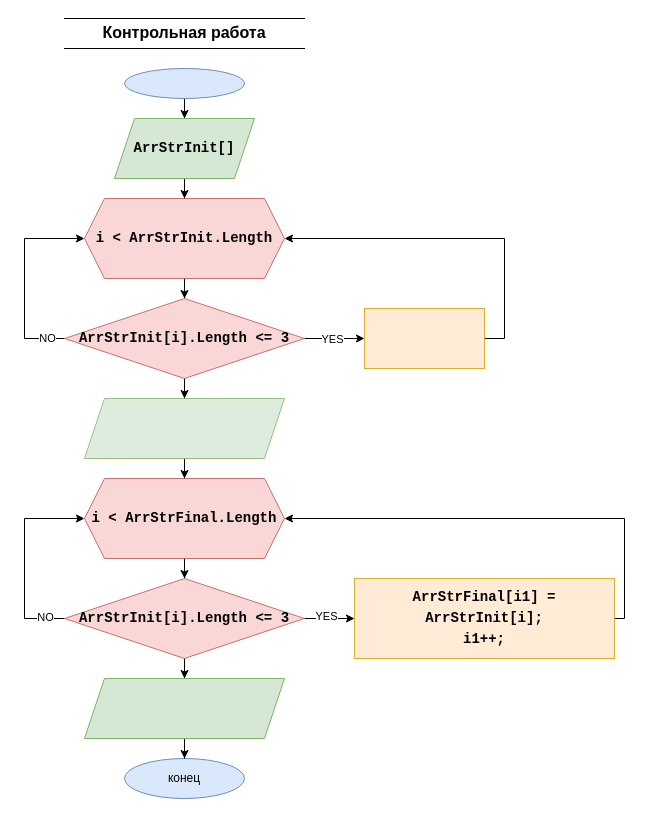
Some shapes in this 650 by 816 pixel diagram are drawn without their labels. Here are the shapes that lost their labels. From the top down, the centre of each, then its label:
(184,83): начало
(424,338): countNew++
(184,428): ArrStrFinal [ countNew ]
(184,708): Вывод ArrStrFinal[]
